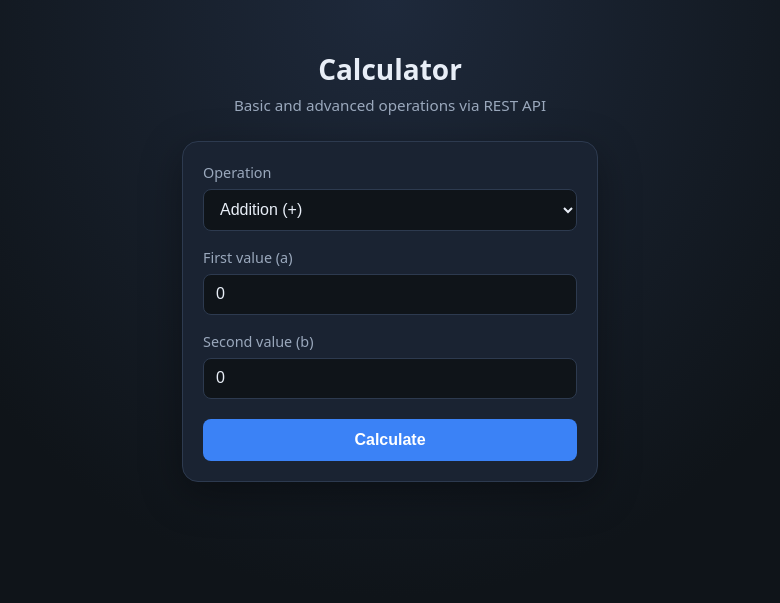
Test: App › displays result from API
Step 1. Replace the text in the field named "First operand" with "3" → (390, 294), box [203,274,577,315]
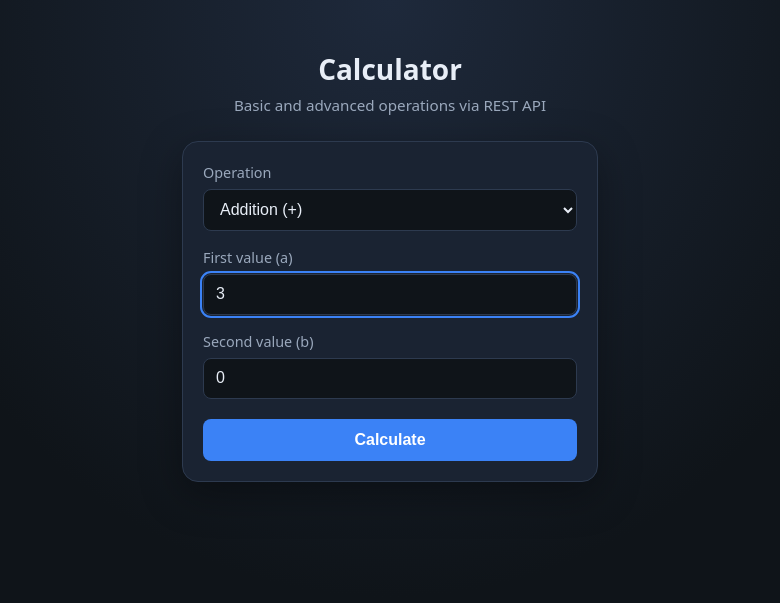
Step 2. Replace the text in the field named "Second operand" with "4" → (390, 378), box [203,358,577,399]
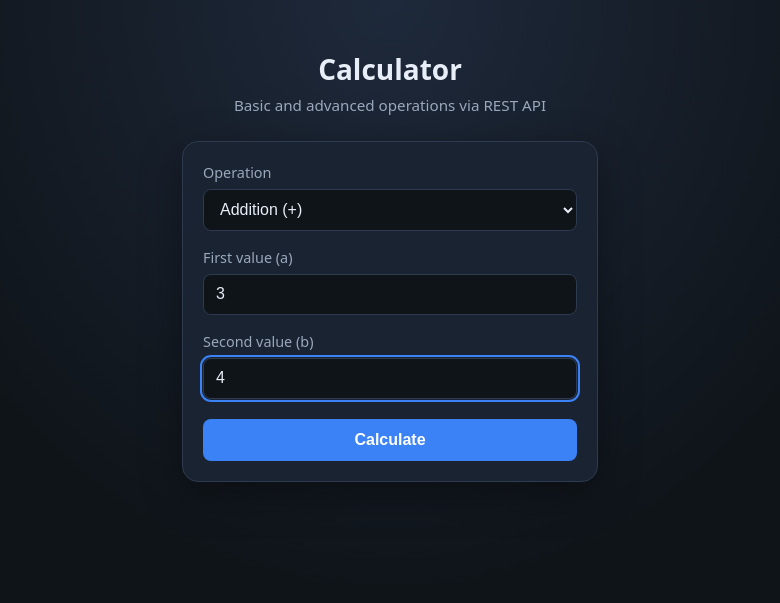
Step 3. Click the button "Calculate" → (390, 440), box [203,419,577,461]
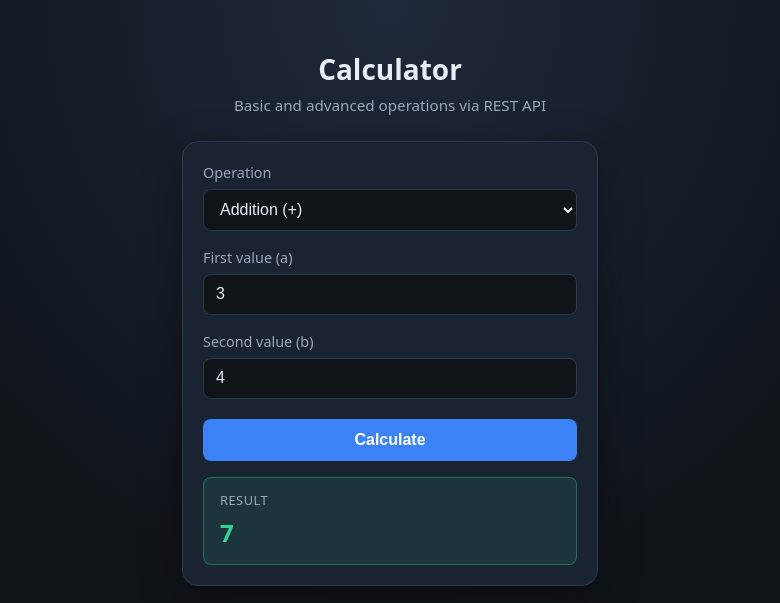
Check: the text "7" is shown, box [220,516,234,548]
